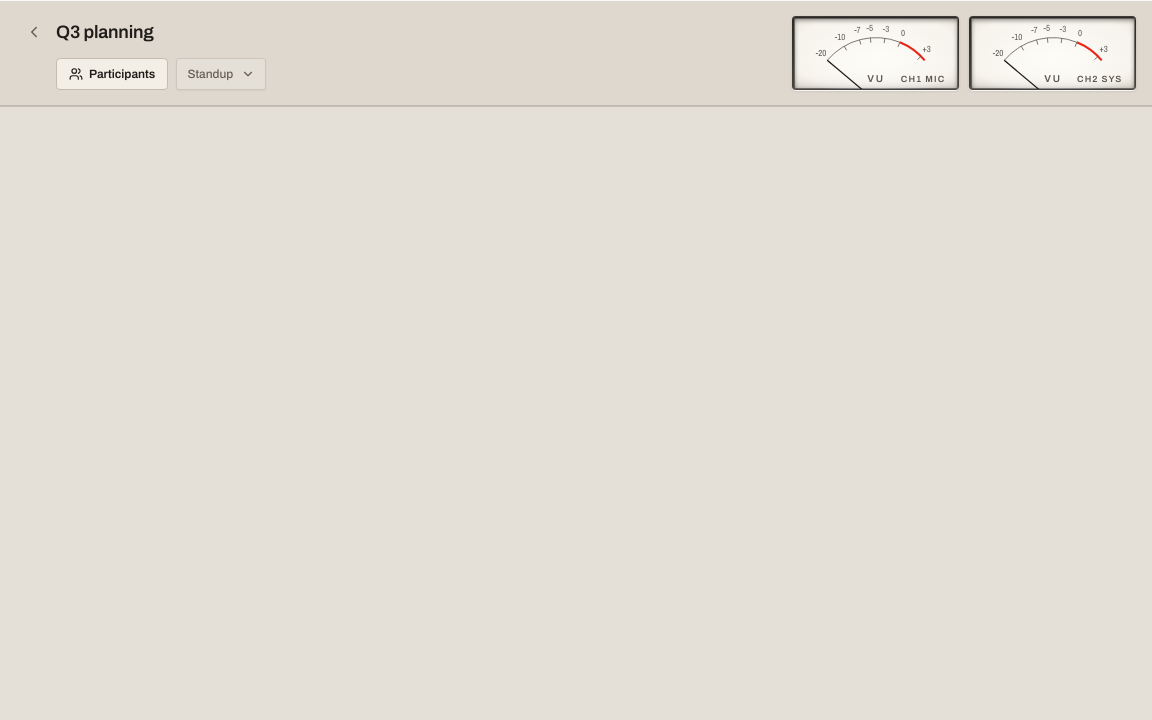
Test: RecordingHeader › prompt picker selects a saved prompt and offers the one-off dialog
This screenshot has width=1152, height=720.
Click the button with aria-label "Summary prompt: Standup" at x=221, y=74, box [176,58,266,90]
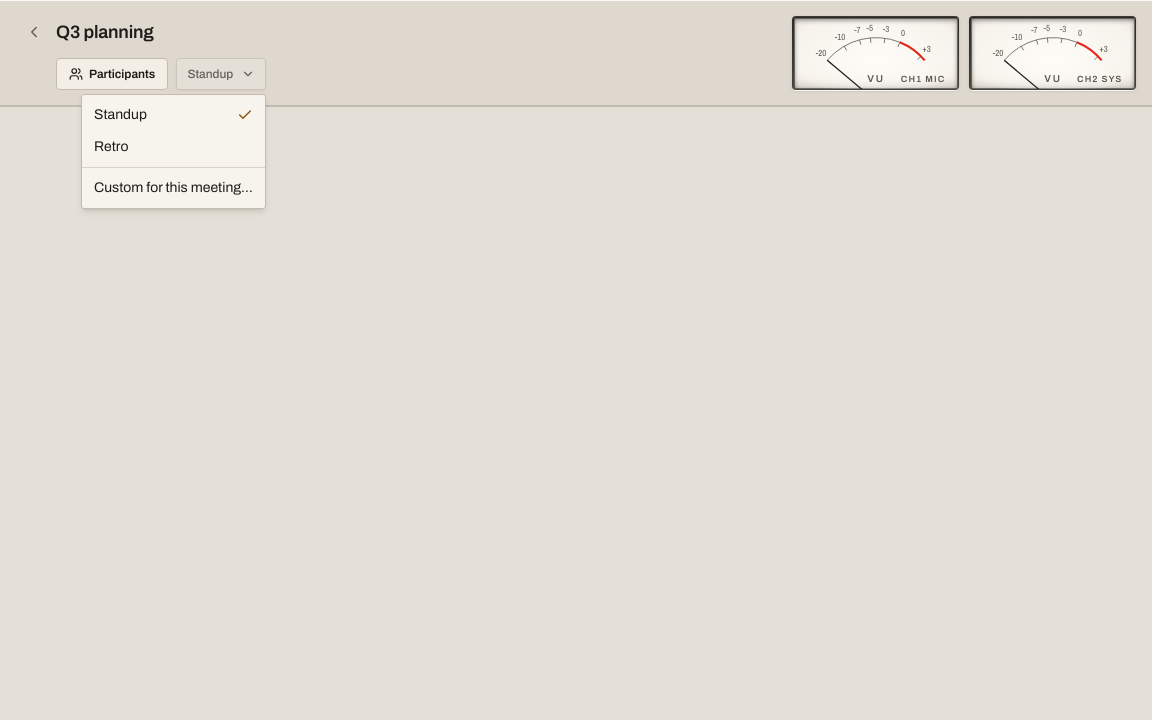
Click the menu item "Retro" at x=111, y=146, box [94,139,128,154]
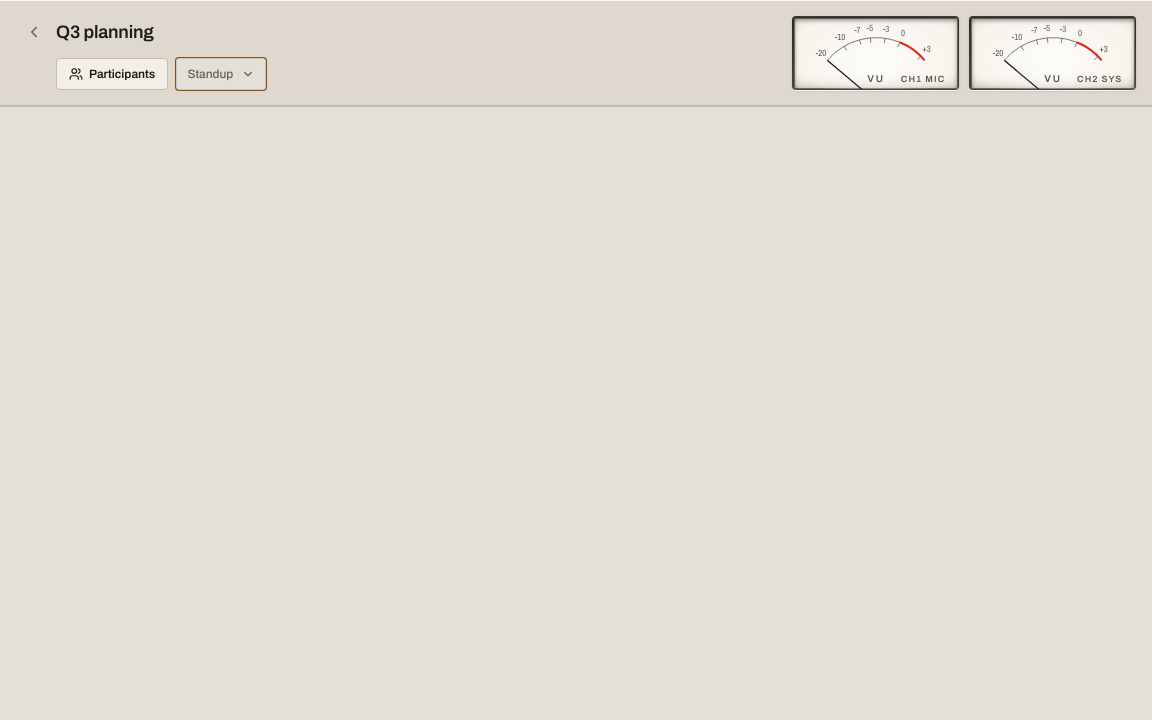
Click the button with aria-label "summary prompt" at x=221, y=74, box [176,58,266,90]
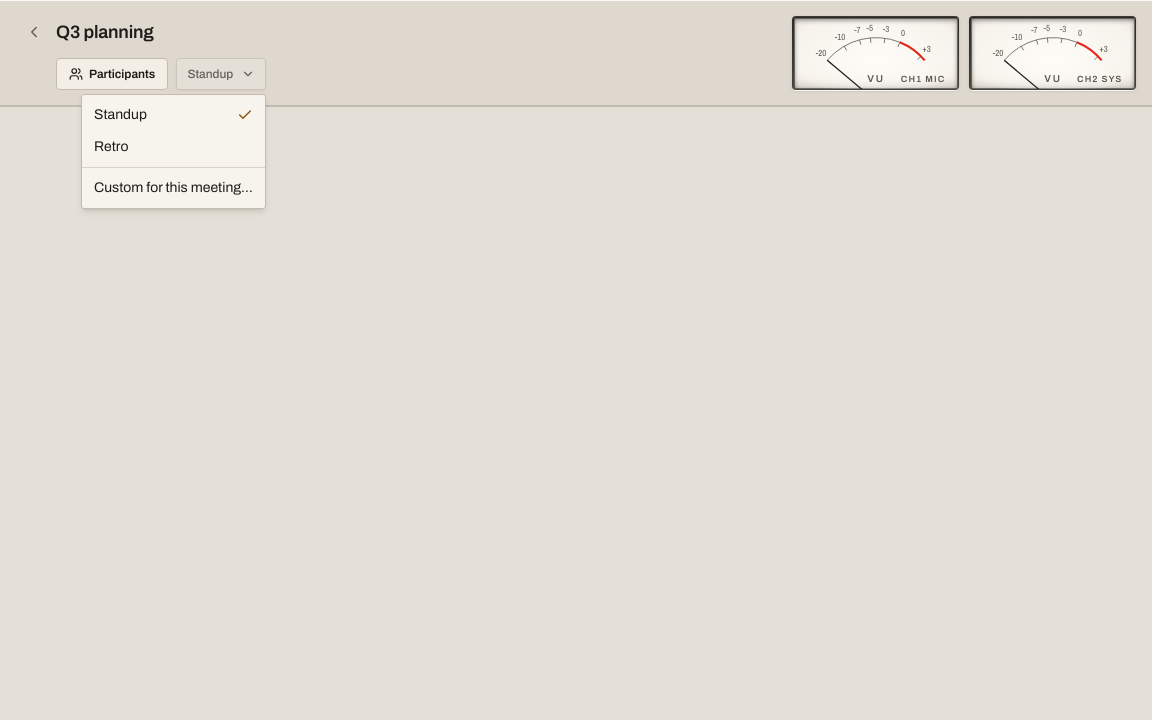
Click the menu item "Custom for this meeting…" at x=173, y=188, box [94,180,253,195]
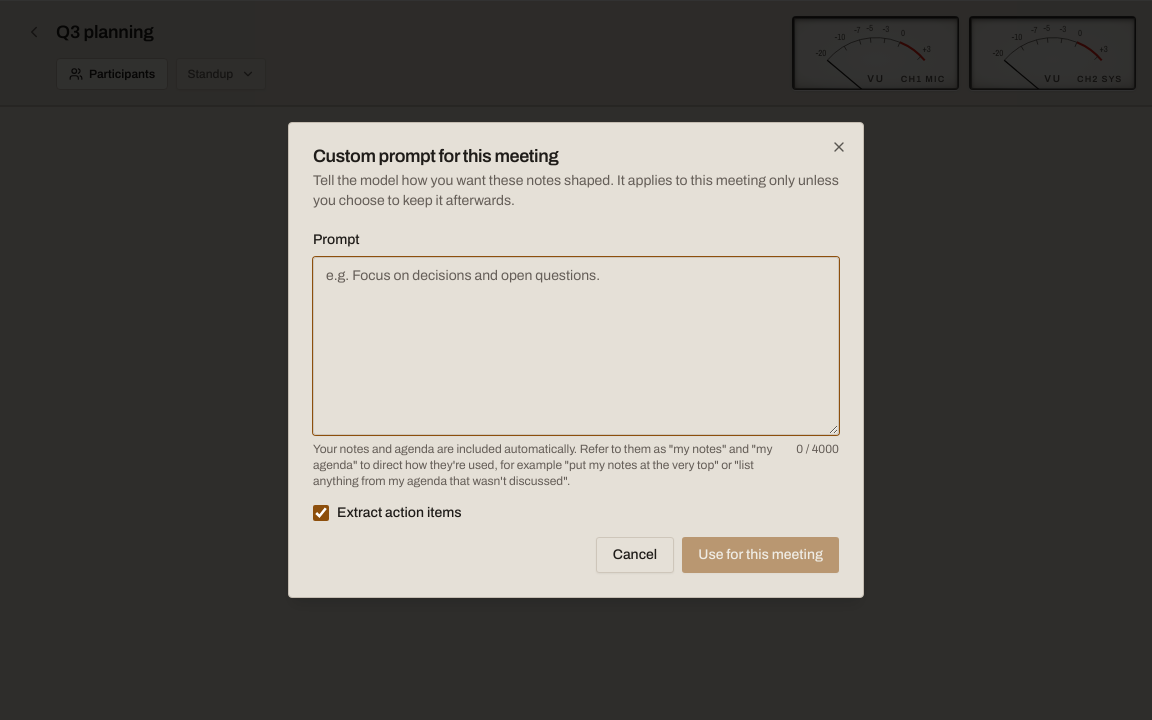
Result: the dialog "Custom prompt for this meeting" is shown at [288,122,864,598]
